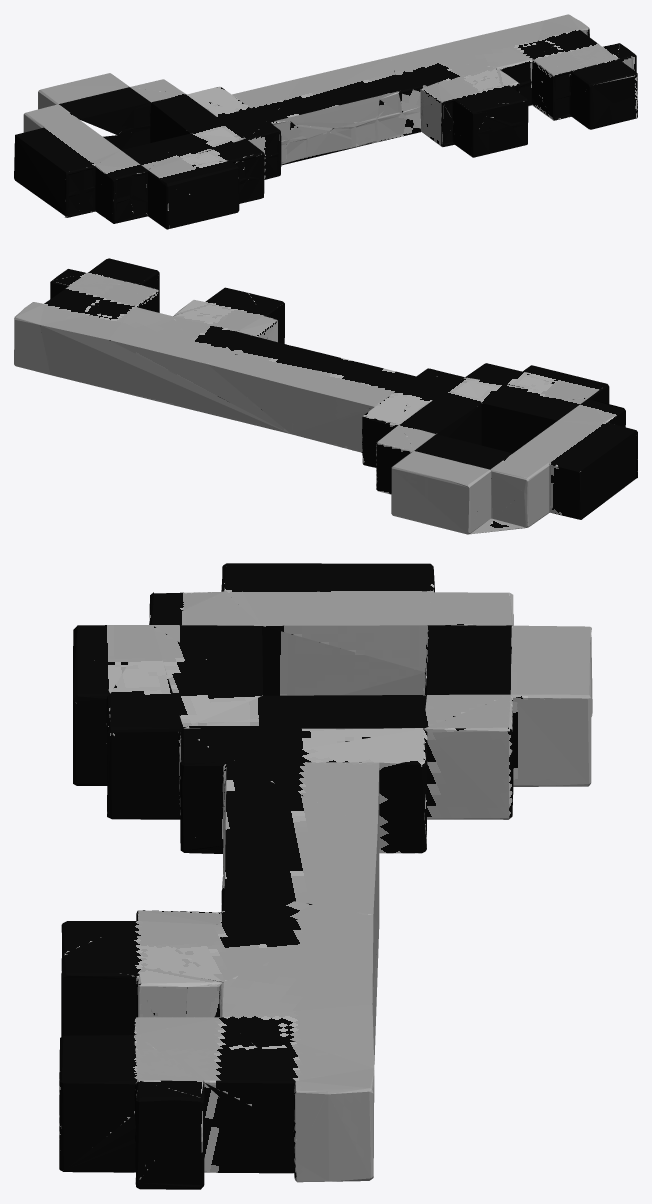
The picture shows the model from 3 angles, top to bottom: view 1: azimuth 30°, elevation 25°; view 2: azimuth 150°, elevation 25°; view 3: azimuth 270°, elevation 25°; orthographic projection. The views are drawn at different scales.
Parts seen in each view (by area): view 1: OBJ108; view 2: OBJ108; view 3: OBJ108.
Part boxes in pixels (x1,y1,x2,y2): OBJ108: (14,14,637,229); OBJ108: (14,258,637,534); OBJ108: (59,563,592,1189).
Size of the model in its own units: 0.3225 by 0.0259 by 0.1354.
Materials: 1 (1 with a texture image).
